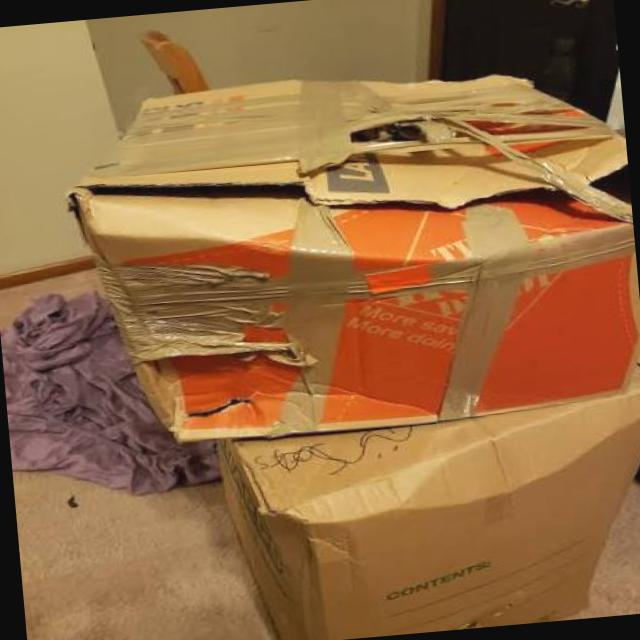package_damage: (43, 112, 634, 287), (125, 345, 300, 456)
